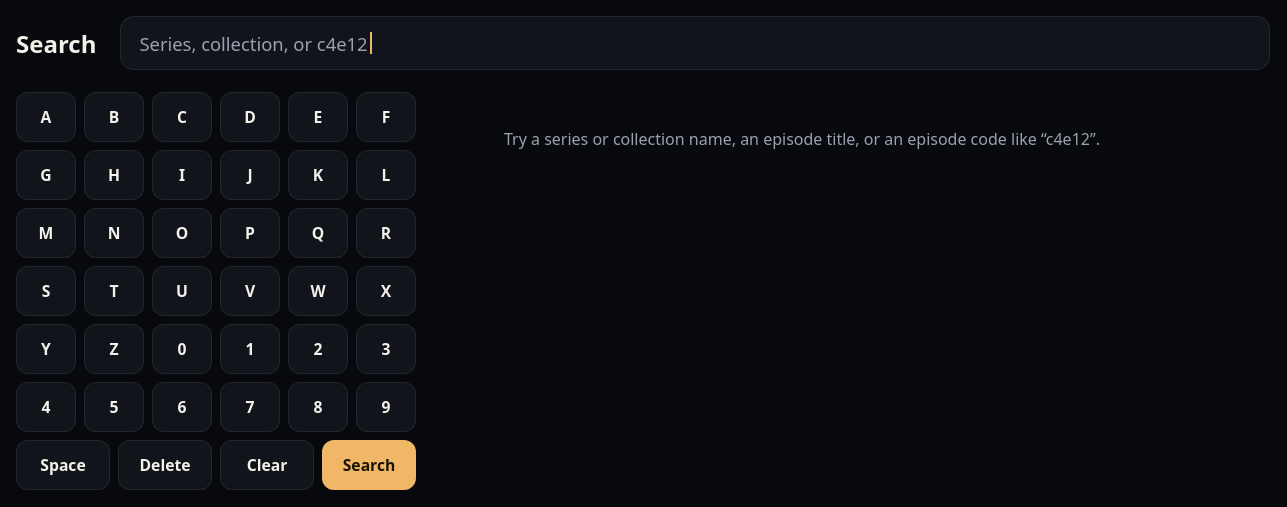
it: Search › clears the query and returns to the prompt
Click the button "A" at {"x": 46, "y": 117}, box [16, 92, 76, 142]
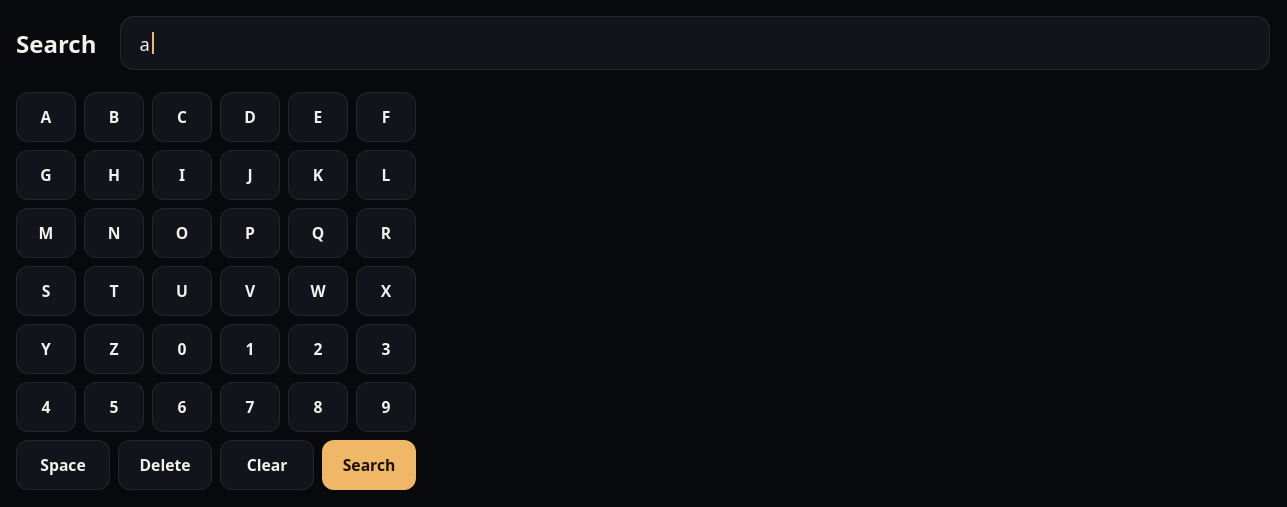
Click the button "B" at {"x": 114, "y": 117}, box [84, 92, 144, 142]
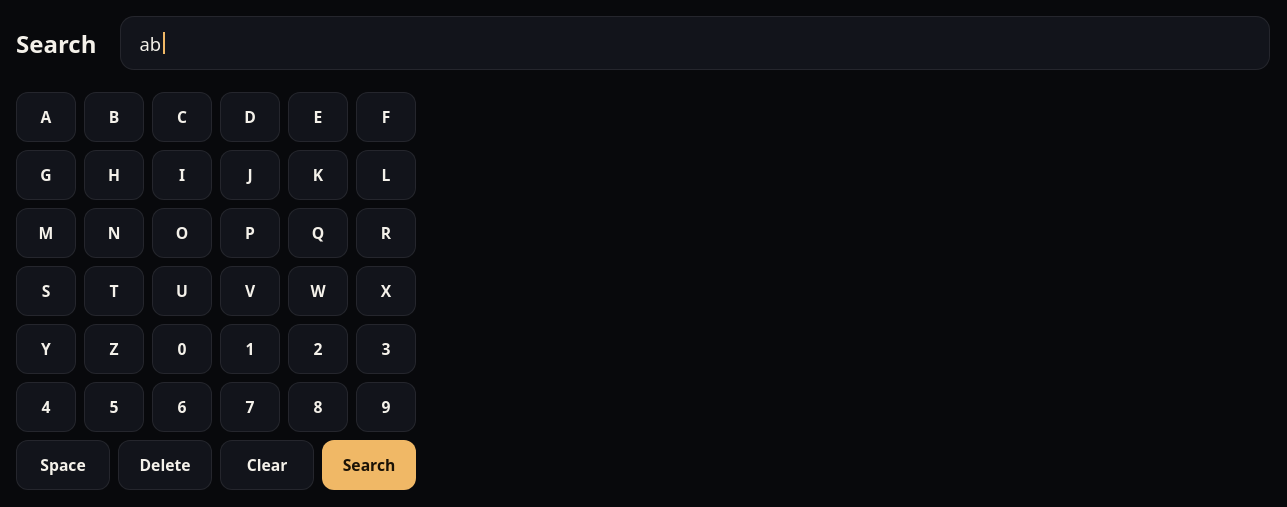
Click the button "Clear" at {"x": 267, "y": 465}, box [220, 440, 314, 490]
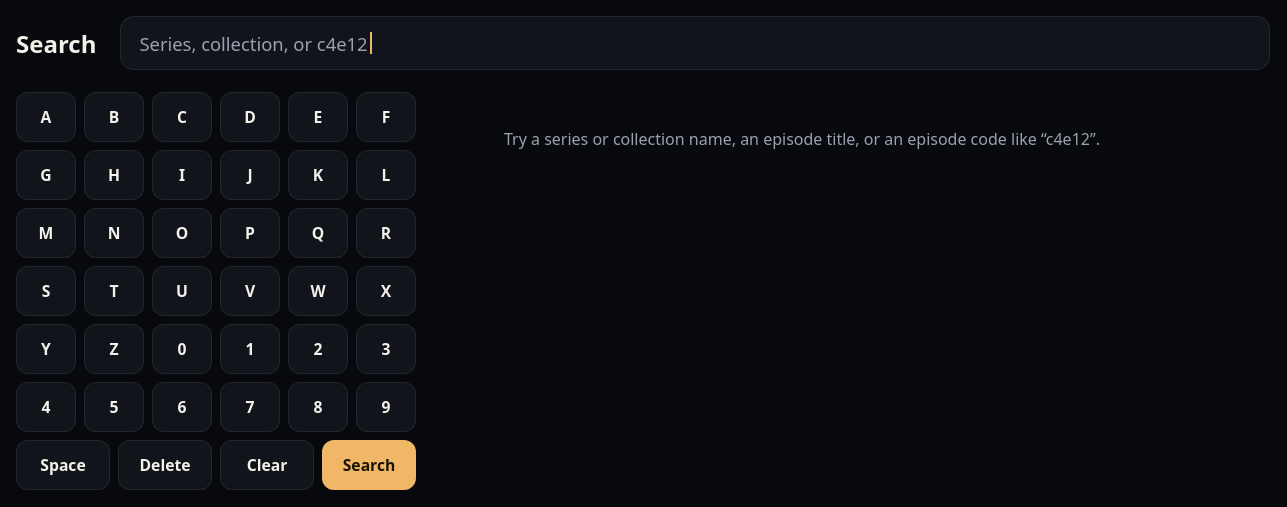
Expected: the text "Series, collection, or c4e12" is shown, [139, 30, 368, 56]
